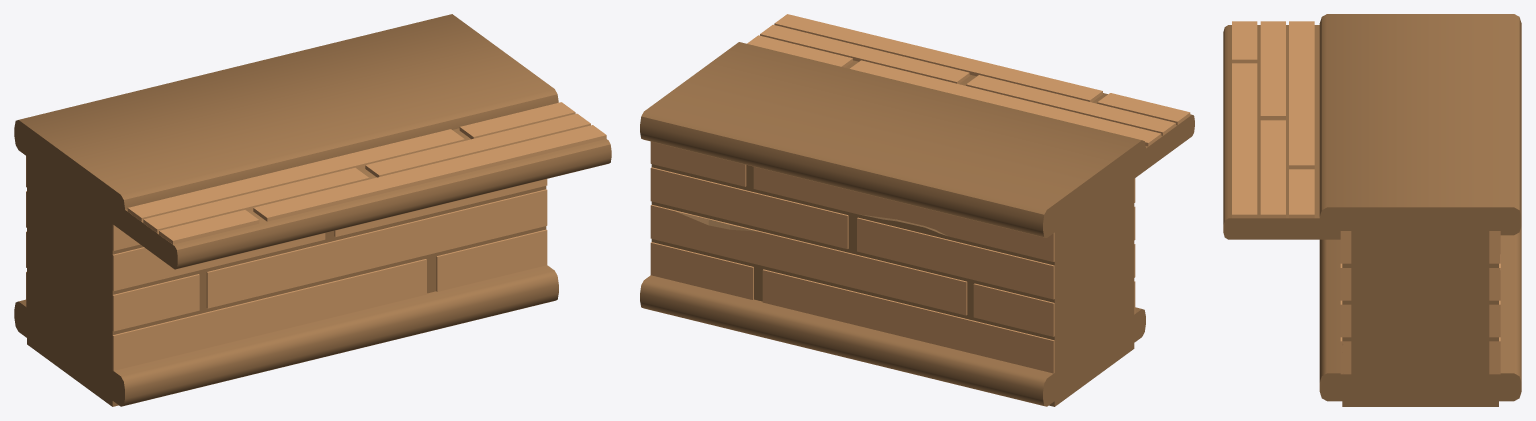
Rendered from Environment_Counter_Straight_2.fbx.
The picture shows the model from 3 angles, left to right: view 1: azimuth 30°, elevation 25°; view 2: azimuth 150°, elevation 25°; view 3: azimuth 270°, elevation 25°; orthographic projection. The views are drawn at different scales.
Visible parts, largest first — view 1: Environment_Counter_Straight_2; view 2: Environment_Counter_Straight_2; view 3: Environment_Counter_Straight_2.
Boxes of the visible parts, <box> form: Environment_Counter_Straight_2: <box>14,14,611,406</box>; Environment_Counter_Straight_2: <box>640,14,1194,406</box>; Environment_Counter_Straight_2: <box>1223,14,1521,406</box>.
Size of the model in its own units: 400 by 192 by 261.
